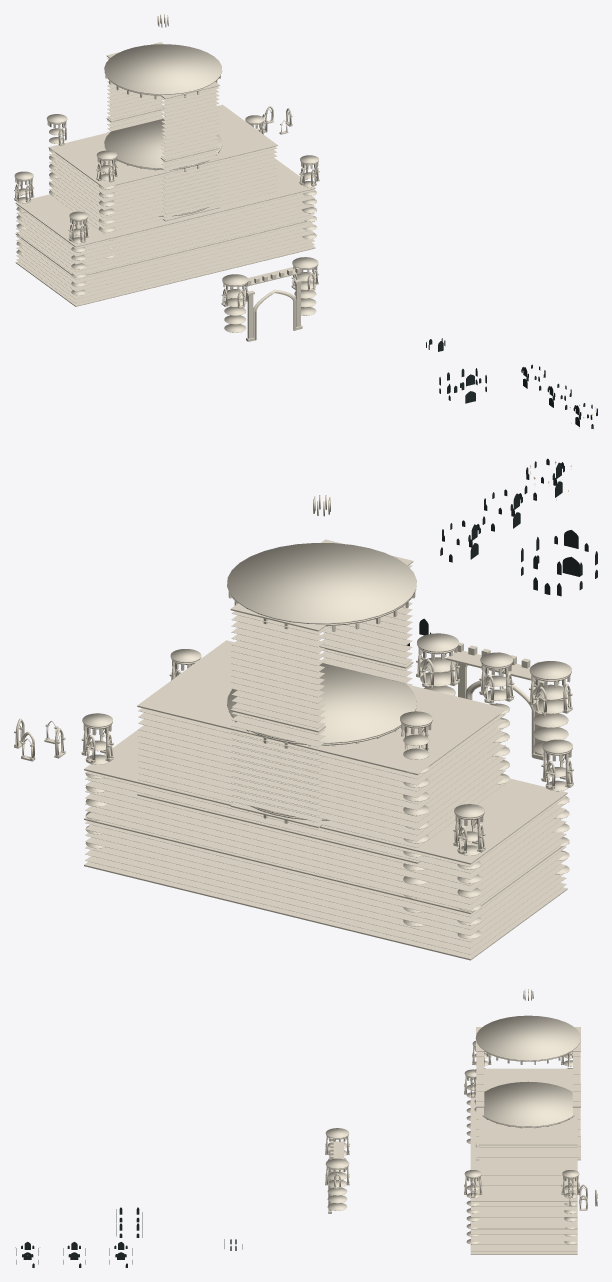
File: Neris-17.glb
The picture shows the model from 3 angles, top to bottom: view 1: azimuth 30°, elevation 25°; view 2: azimuth 150°, elevation 25°; view 3: azimuth 270°, elevation 25°; orthographic projection. The views are drawn at different scales.
Parts seen in each view (by area): view 1: Pale Carved Stone, Recess Shadow.001; view 2: Pale Carved Stone, Recess Shadow.001; view 3: Pale Carved Stone, Recess Shadow.001.
Boxes of the visible parts, x1=… form: Pale Carved Stone: x1=14, y1=14, x2=319, y2=341; Recess Shadow.001: x1=426, y1=338, x2=597, y2=428; Pale Carved Stone: x1=14, y1=495, x2=573, y2=960; Recess Shadow.001: x1=406, y1=458, x2=597, y2=649; Pale Carved Stone: x1=325, y1=989, x2=597, y2=1254; Recess Shadow.001: x1=16, y1=1207, x2=242, y2=1267.
Bounding box in the file's own units: 137 × 110 × 275.
